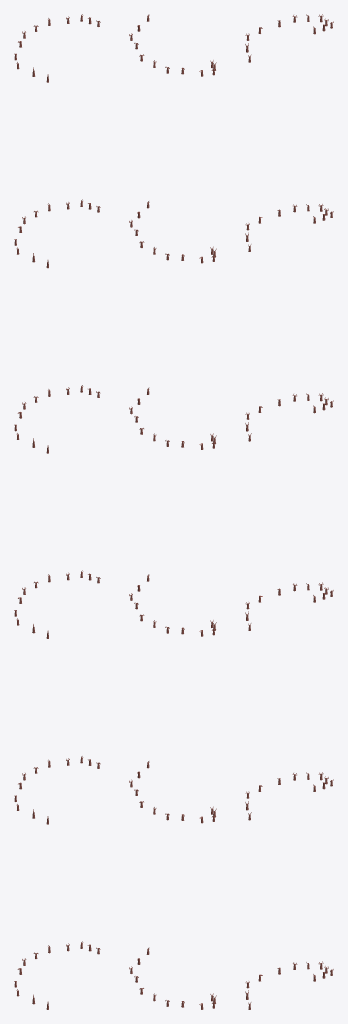
Rendered from Circle5Crowd1.obj.
The picture shows the model from 3 angles, left to right: view 1: azimuth 30°, elevation 25°; view 2: azimuth 150°, elevation 25°; view 3: azimuth 330°, elevation 25°; orthographic projection. The views are drawn at different scales.
Parts seen in each view (by area): view 1: Circle5Crowd1; view 2: Circle5Crowd1; view 3: Circle5Crowd1.
Boxes of the visible parts, bbox=[...] form: Circle5Crowd1: bbox=[14, 14, 100, 1009]; Circle5Crowd1: bbox=[129, 14, 216, 1009]; Circle5Crowd1: bbox=[245, 14, 333, 1009].
Size of the model in its own units: 27.88 by 340 by 23.1.
Materials: 1 (1 with a texture image).
